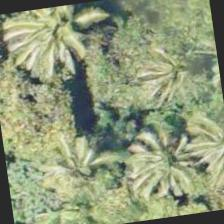Kelapa_Sawit: (122, 18, 224, 121), (24, 114, 126, 216), (115, 109, 217, 211), (6, 1, 104, 75), (169, 95, 223, 193)
